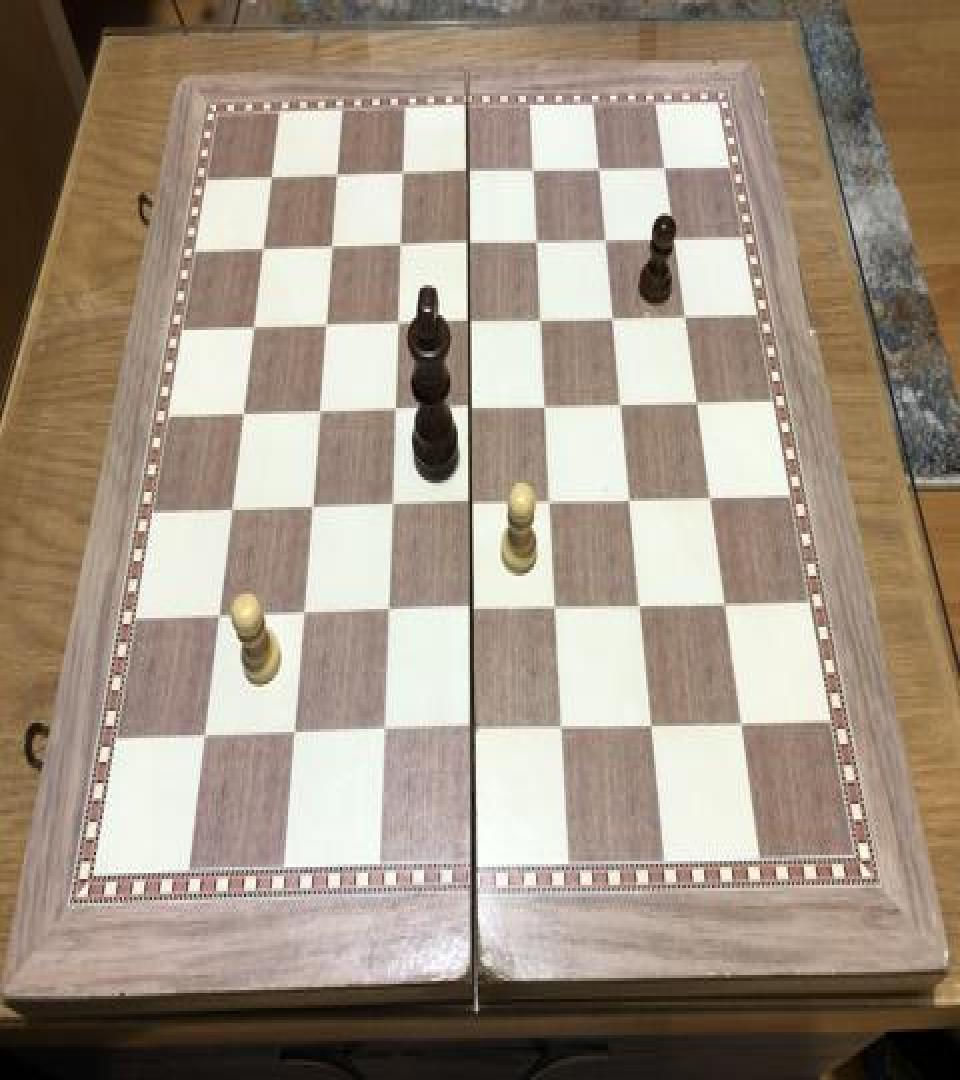xcorner: (293, 601, 317, 638), (552, 712, 576, 749), (655, 153, 679, 189), (589, 154, 613, 190), (523, 156, 547, 192), (457, 158, 481, 194), (391, 159, 415, 195), (325, 160, 349, 196), (259, 164, 283, 200), (665, 224, 689, 260), (596, 226, 620, 262), (527, 228, 551, 264), (458, 230, 482, 266), (389, 231, 413, 267), (320, 232, 344, 268), (251, 236, 275, 272), (676, 303, 700, 339), (603, 304, 627, 340), (531, 306, 555, 342), (459, 308, 483, 344), (387, 310, 411, 346), (314, 312, 338, 348), (242, 314, 266, 350), (687, 388, 711, 424), (611, 390, 635, 426), (536, 393, 560, 429), (460, 394, 484, 430), (384, 396, 408, 432), (308, 399, 332, 435), (232, 400, 256, 436), (700, 483, 724, 519), (620, 486, 644, 522), (541, 488, 565, 524), (461, 490, 485, 526), (381, 492, 405, 528), (301, 495, 325, 531), (221, 496, 245, 532), (714, 590, 738, 626), (630, 591, 654, 627), (546, 594, 570, 630), (462, 597, 486, 633), (377, 598, 401, 634), (209, 603, 233, 639), (730, 708, 754, 744), (641, 710, 665, 746), (463, 716, 487, 752), (374, 717, 398, 753), (284, 720, 308, 756), (195, 723, 219, 759)
